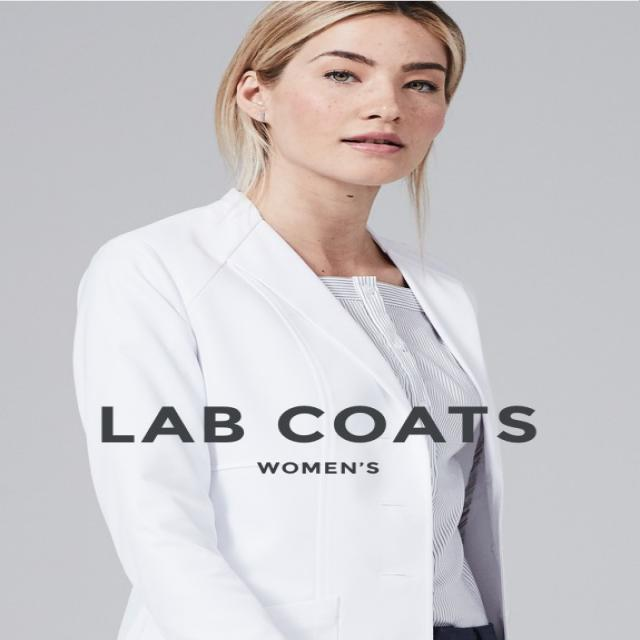mobile_phonerotation: (71, 1, 516, 638)
